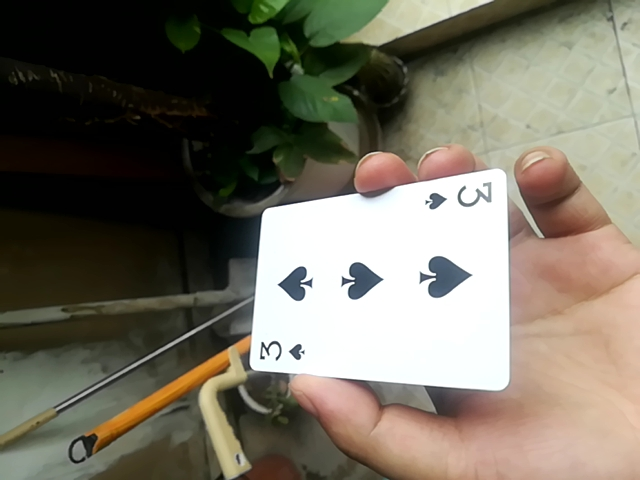ht 3: (241, 162, 514, 390)
